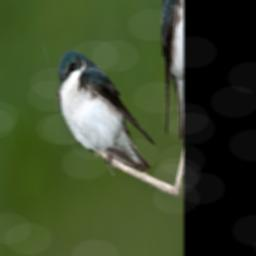Swallow: (45, 5, 160, 223)
